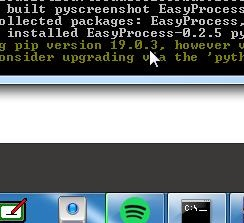cursor: (148, 48, 161, 69)
